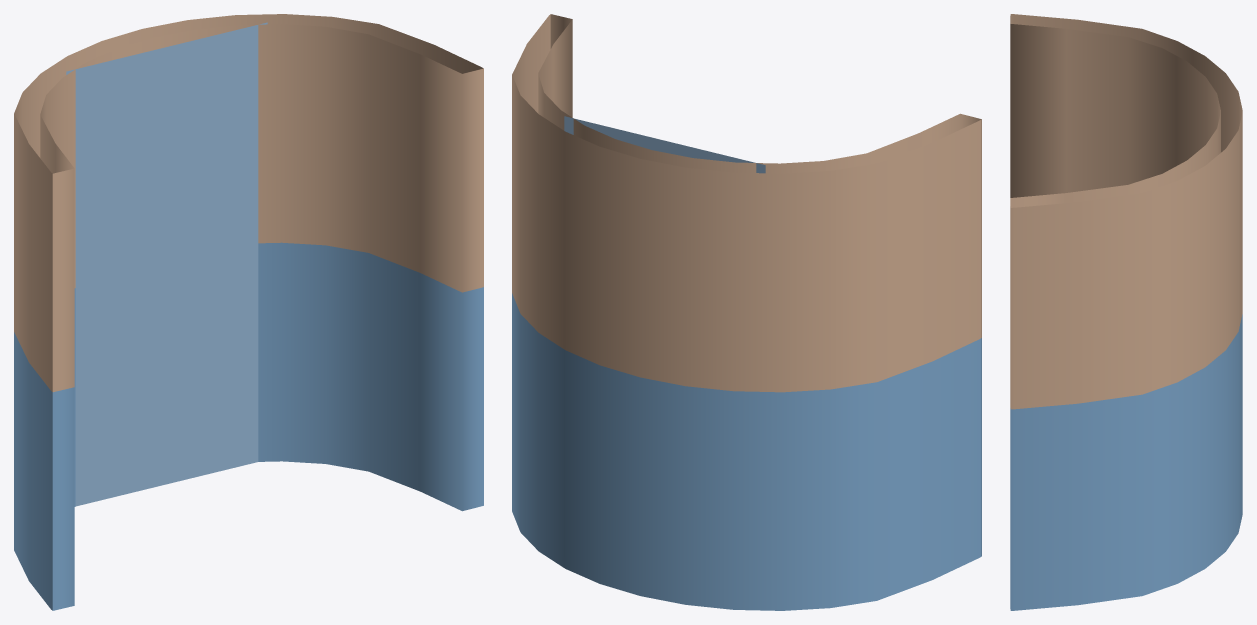
Rendered from UltimateSliderNowWithWater.fbx.
3 views of the same model, side by side, from view 1: azimuth 30°, elevation 25°; view 2: azimuth 150°, elevation 25°; view 3: azimuth 270°, elevation 25° (orthographic). The views are drawn at different scales.
Visible parts, largest first — view 1: Cylinder.001; view 2: Cylinder.001; view 3: Cylinder.001.
Part boxes in pixels (box(x1,y1,x2,y2)): Cylinder.001: box(14, 14, 483, 610); Cylinder.001: box(512, 14, 981, 610); Cylinder.001: box(1010, 14, 1242, 610).
Size of the model in its own units: 206 by 200 by 105.
